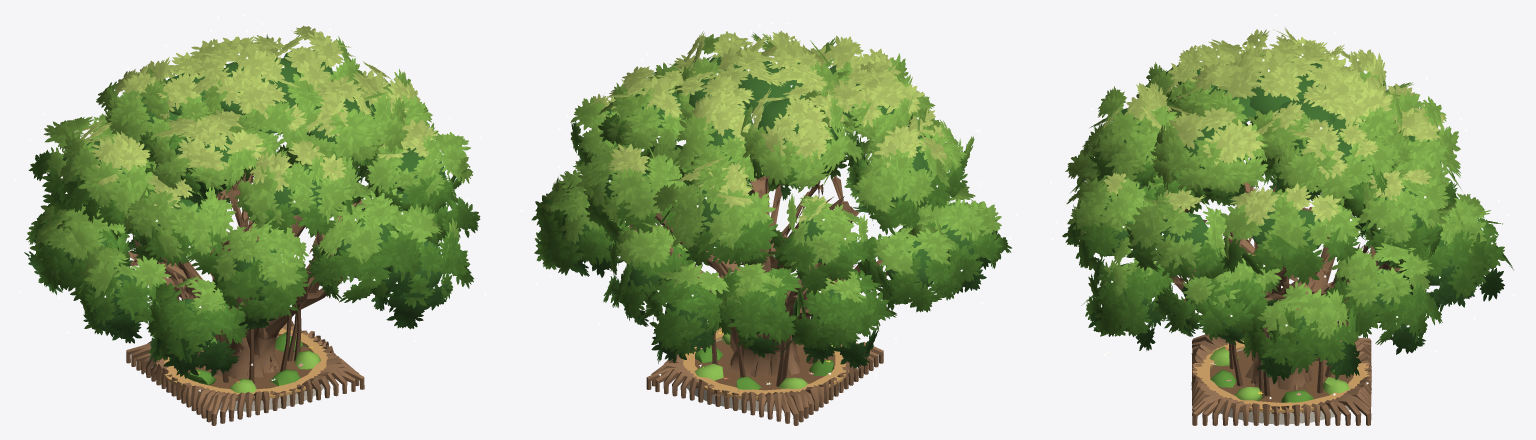
Rendered from tree_banyan.glb.
The picture shows the model from 3 angles, left to right: view 1: azimuth 30°, elevation 25°; view 2: azimuth 150°, elevation 25°; view 3: azimuth 270°, elevation 25°; orthographic projection. The views are drawn at different scales.
Visible parts, largest first — view 1: canopy, body; view 2: canopy, body; view 3: canopy, body.
Boxes of the visible parts, bbox=[...] form: canopy: bbox=[24, 25, 480, 378]; body: bbox=[126, 172, 364, 425]; canopy: bbox=[531, 30, 1011, 368]; body: bbox=[630, 176, 888, 425]; canopy: bbox=[1062, 27, 1513, 384]; body: bbox=[1169, 182, 1403, 425].
Size of the model in its own units: 14.07 by 10.96 by 13.35.
4 materials, 1 textured.
